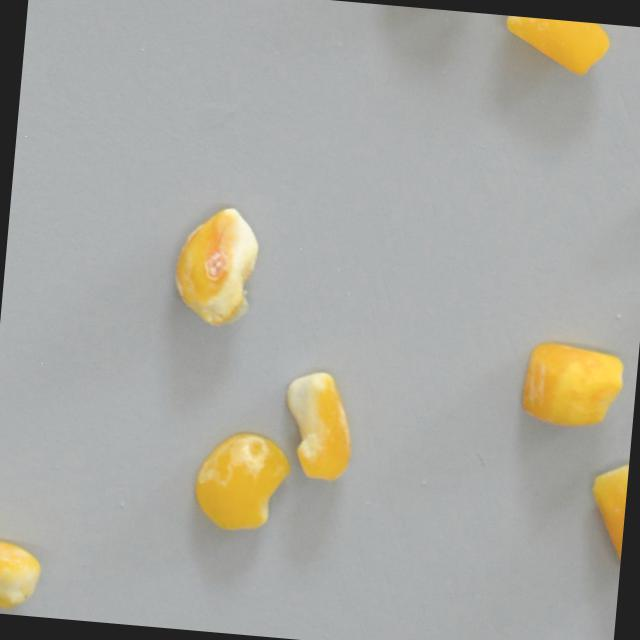dañado: (163, 201, 270, 334), (187, 423, 294, 537), (515, 332, 630, 433), (275, 365, 362, 488), (577, 459, 629, 577)
pelicula: (494, 14, 614, 81)
punto_negro: (0, 531, 49, 617)
